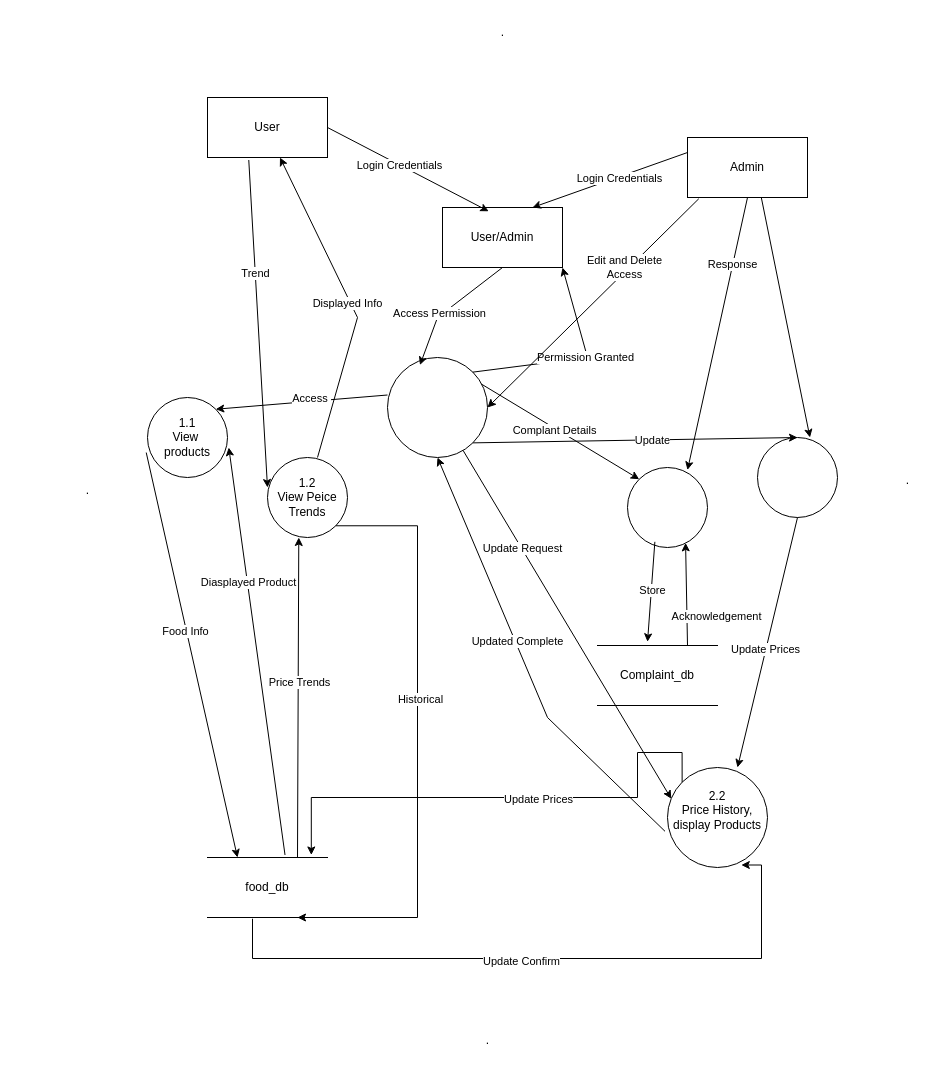
This 939x1072 diagram has some shape labels left out. The centre of each missing label's shape, as x and y in pixels:
"1.3 Submit Complaint" belongs at pixel 667 507.
"2.1 Update food prices" belongs at pixel 797 477.
"Food Price Control Website" belongs at pixel 437 407.
